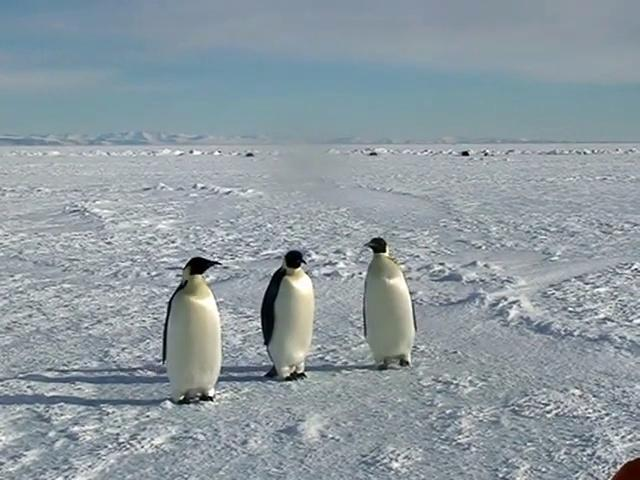animal: (365, 239, 417, 370)
